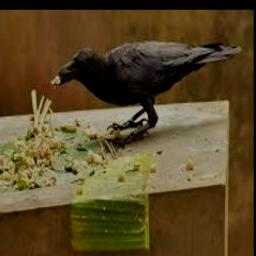Crow: (55, 40, 243, 136)
